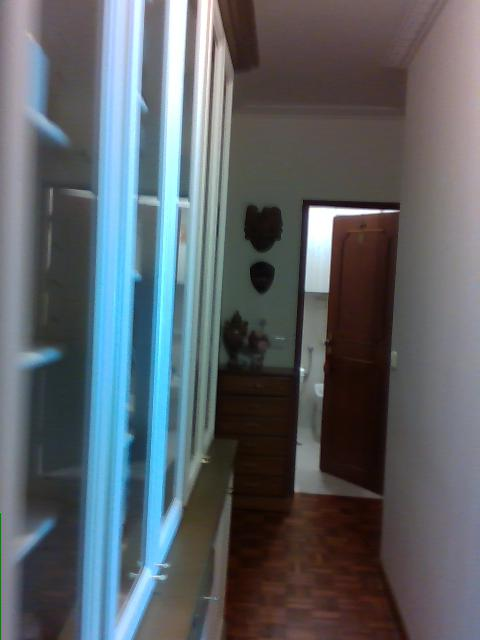semi_door: (291, 197, 403, 499)
